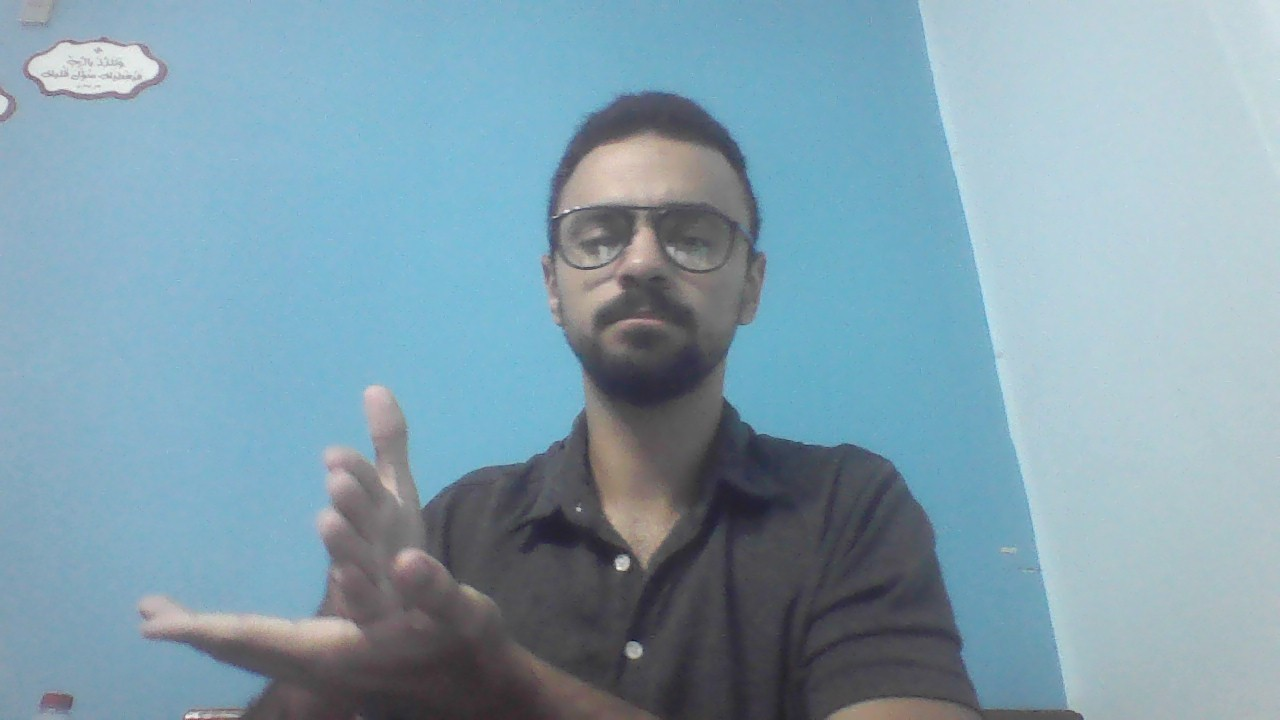stop: (133, 386, 517, 687)
